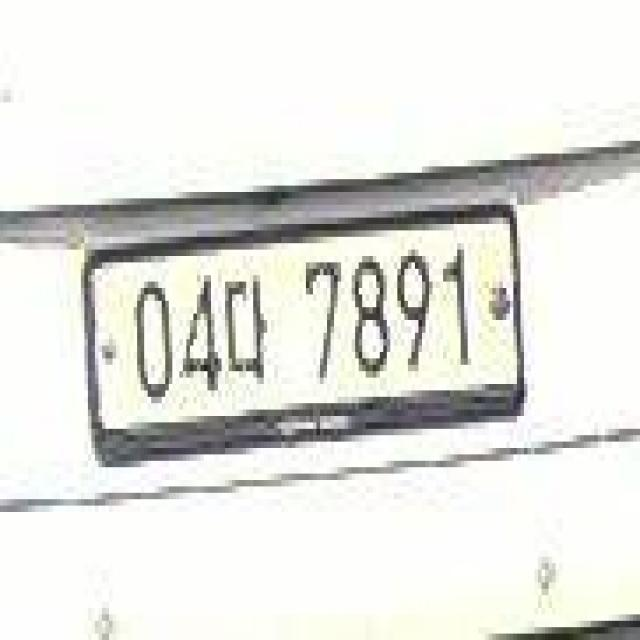illegal_plate: (77, 200, 531, 460)
